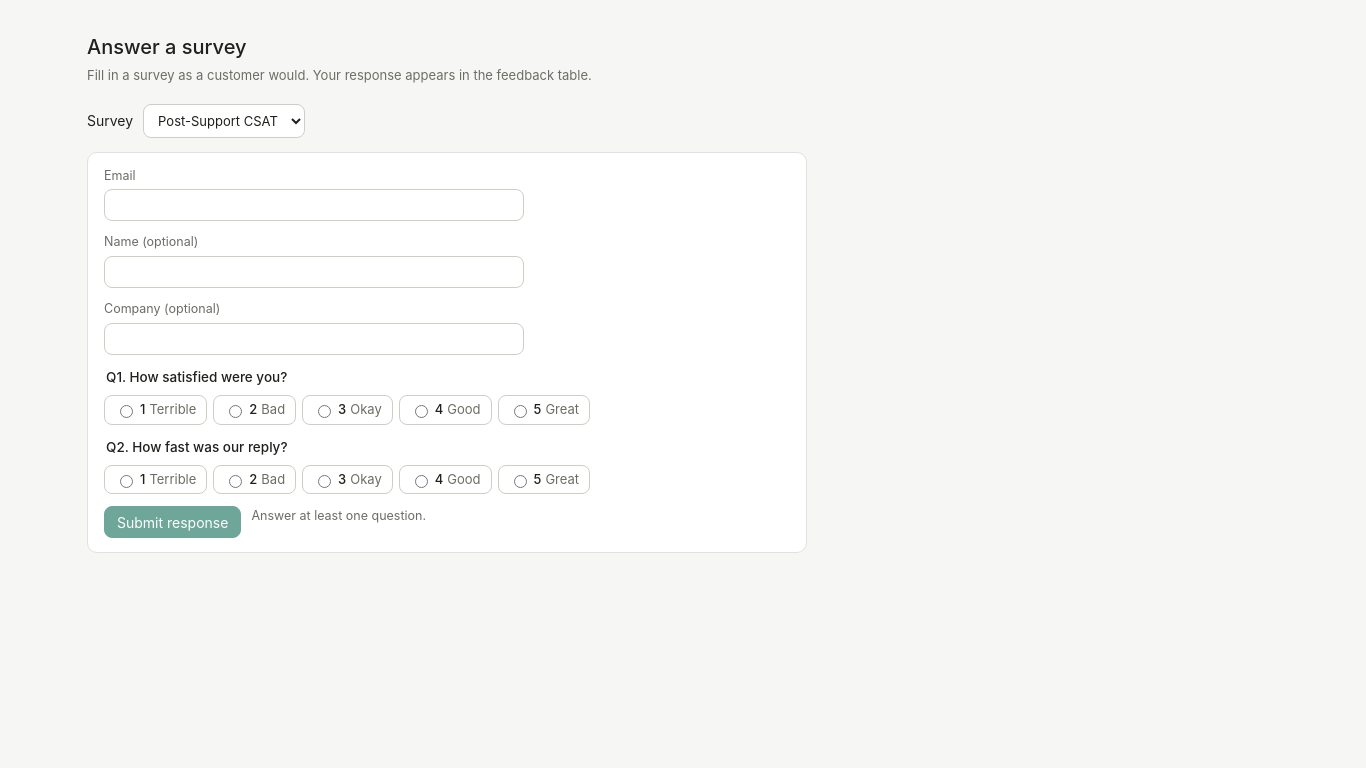
Test: RespondPage comments (Req 3) › sends the comment as text alongside other answers
The width and height of the screenshot is (1366, 768).
Check: the form is shown, box [87,152,807,553]
Select "Onboarding CSAT" in the dropdown labelled "Survey": (224, 120) [143,104,305,138]
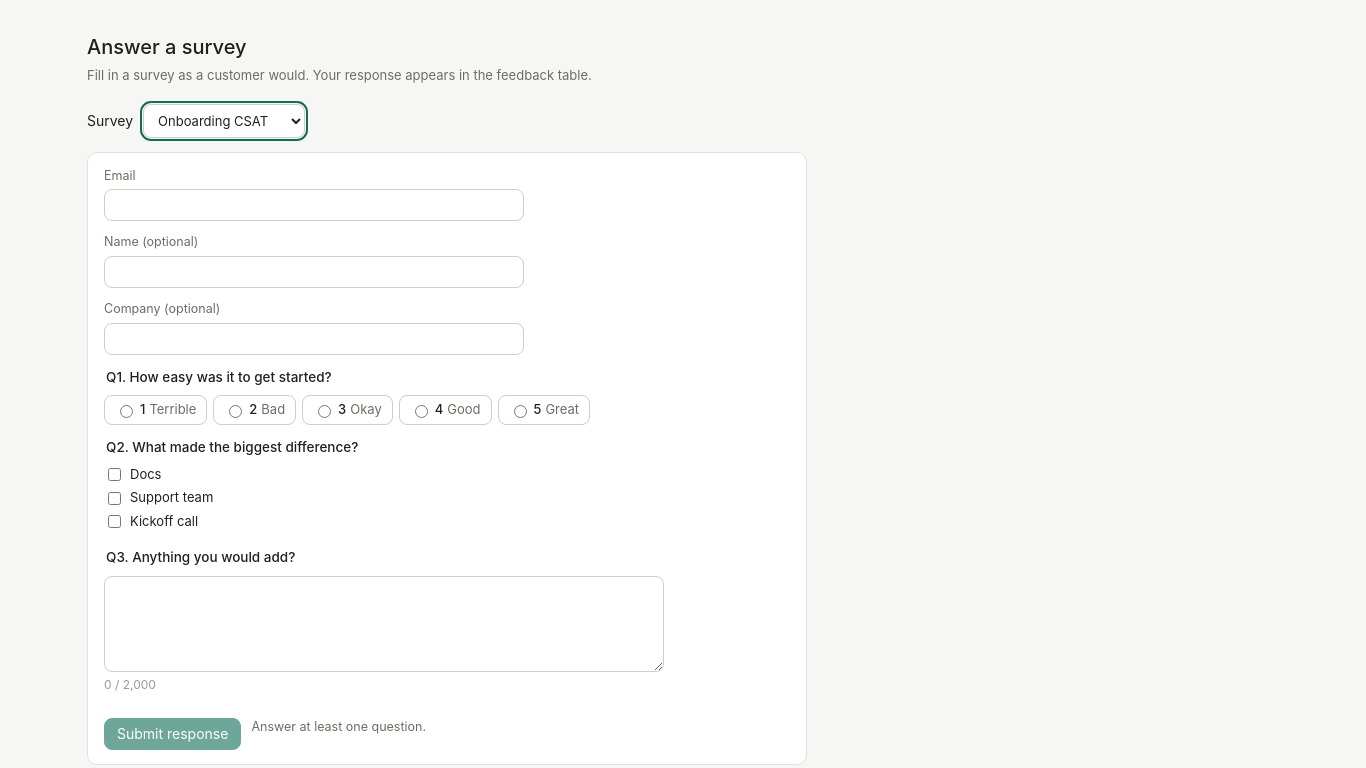
In the field labelled "Email": (314, 205) [104,189,524,221], type "ada@example.com"
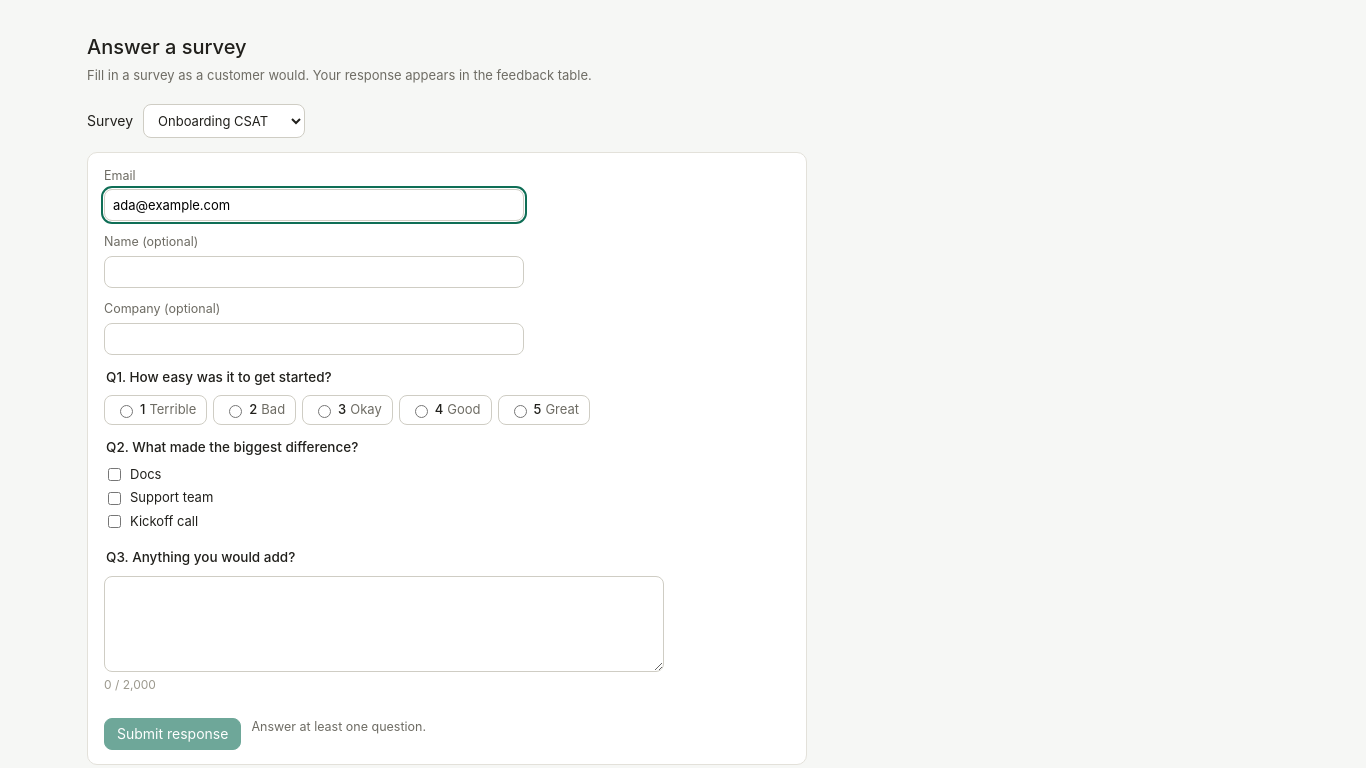
Click the checkbox labelled "Docs": (114, 474) [108,468,121,481]
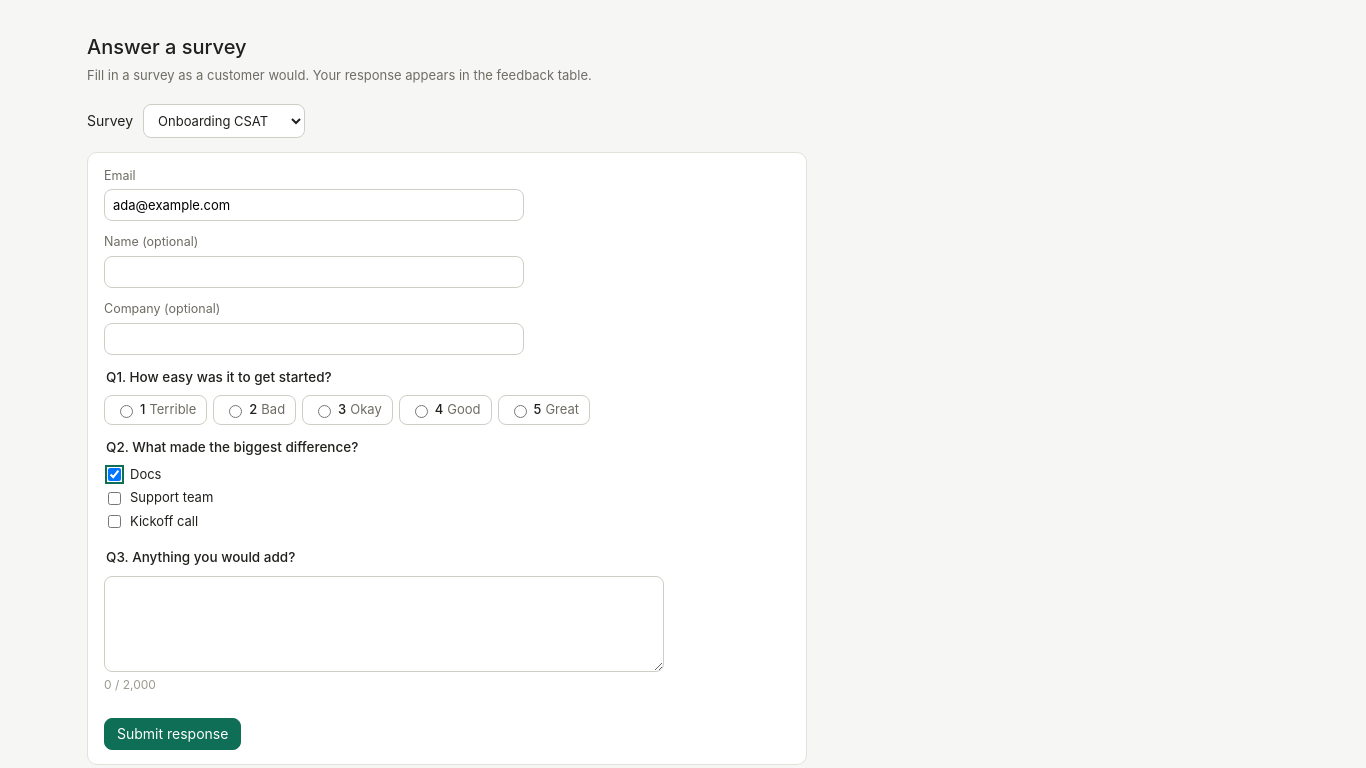
In the text box named "Anything you would add?": (384, 624) [104,576,664,672], type "5"
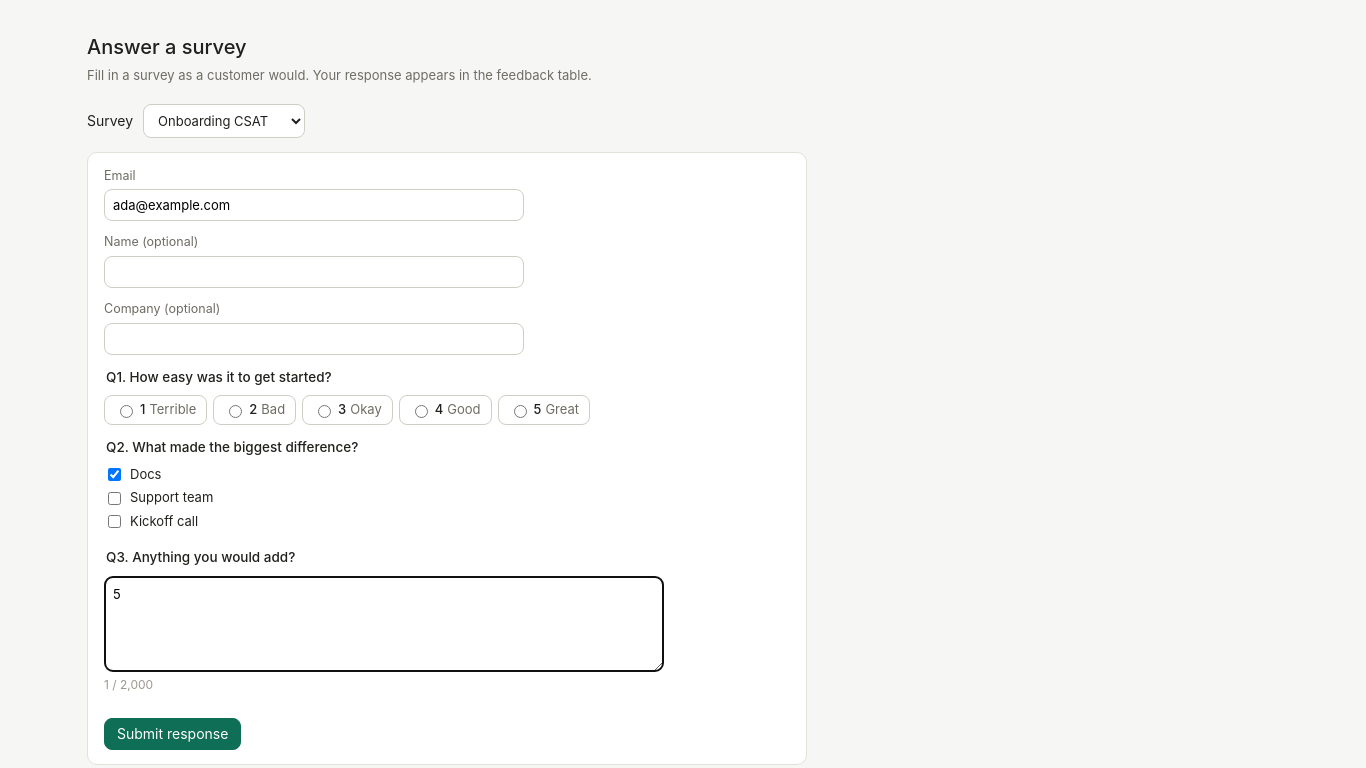
Click the button "Submit response": (173, 734) [104,718,241,750]
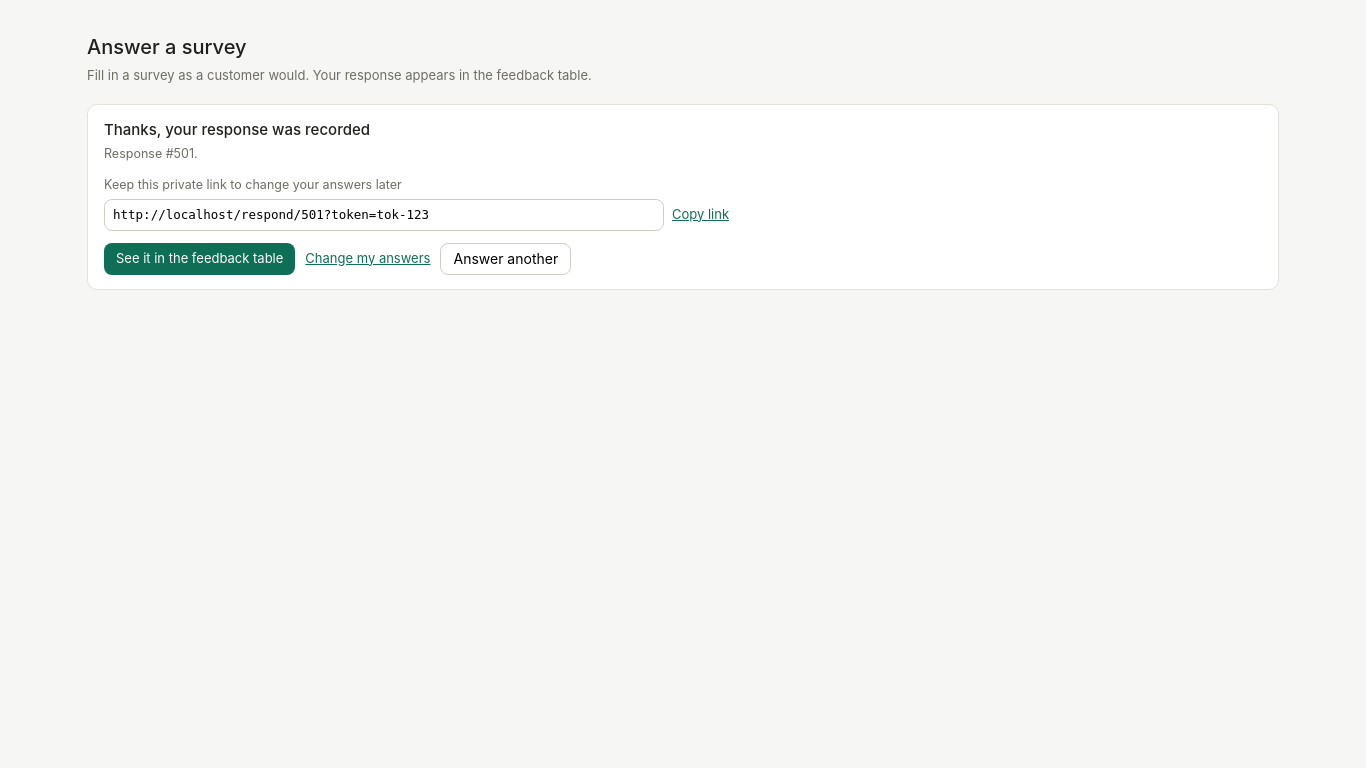
Check: the message is shown, box [87,104,1279,290]
